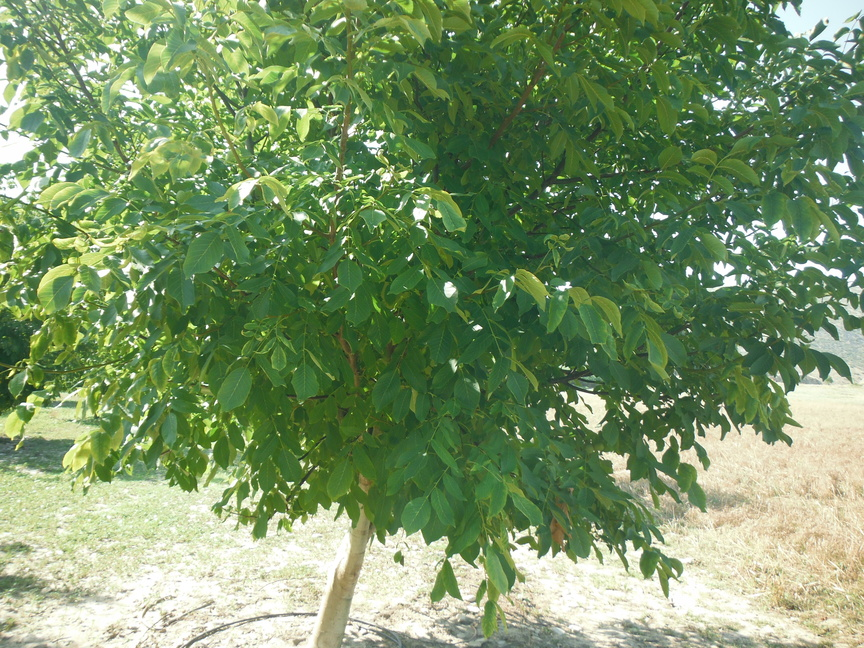walnut: (440, 120, 457, 136), (581, 440, 595, 455), (593, 441, 606, 453)
